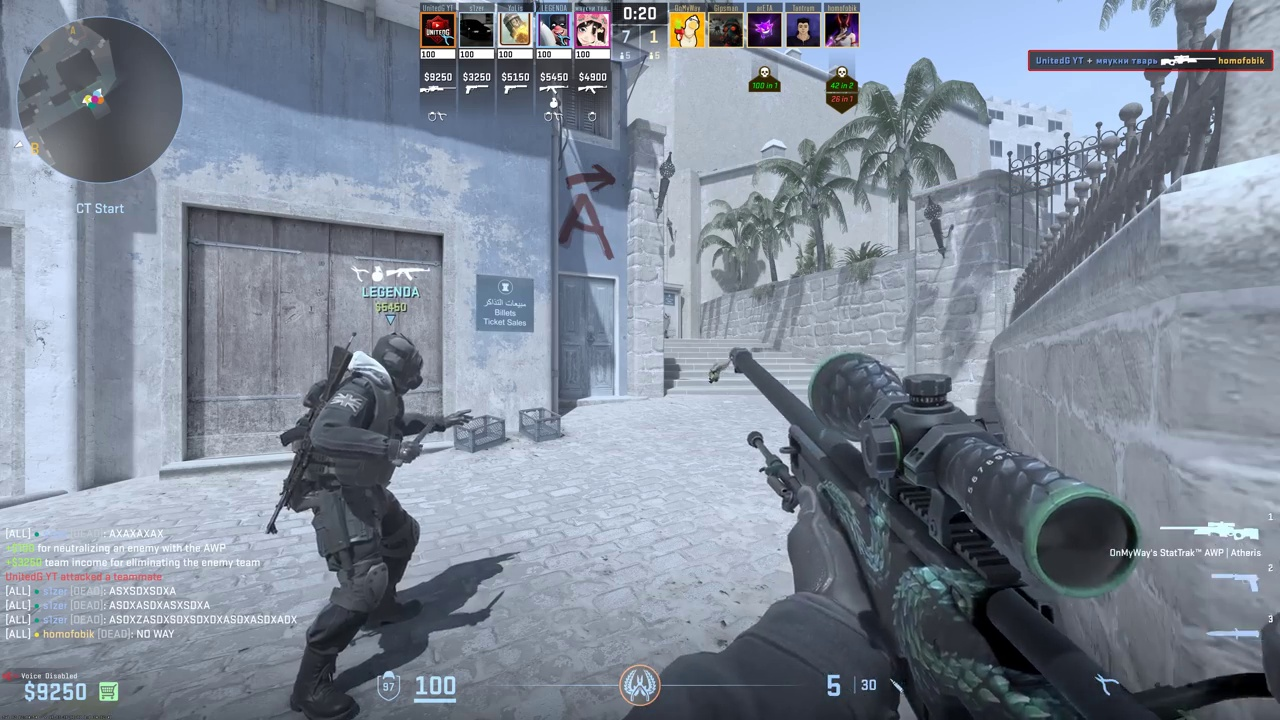CT: (290, 332, 431, 715)
